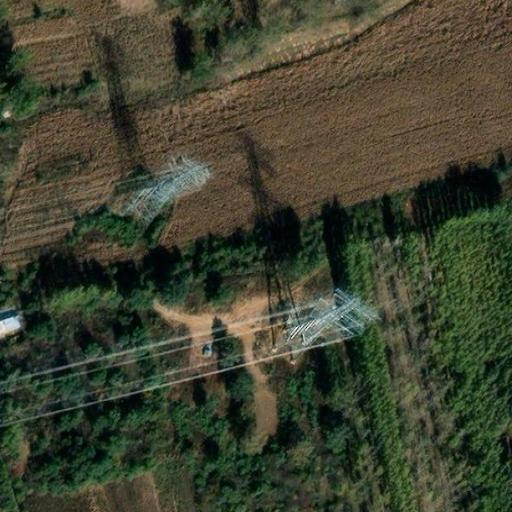building: (0, 314, 26, 339)
